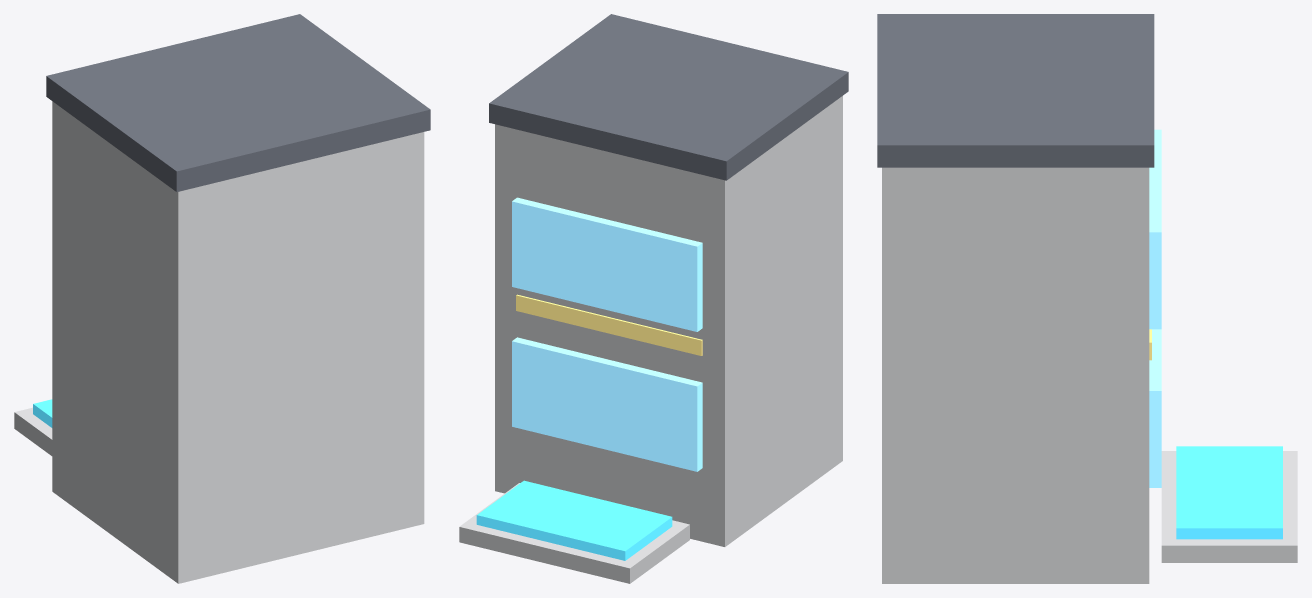
File: res_luxury_2.glb
The picture shows the model from 3 angles, left to right: view 1: azimuth 30°, elevation 25°; view 2: azimuth 150°, elevation 25°; view 3: azimuth 270°, elevation 25°; orthographic projection. The views are drawn at different scales.
Parts seen in each view (by area): view 1: res_luxury_2; view 2: res_luxury_2; view 3: res_luxury_2.
Part boxes in pixels (<box>): res_luxury_2: <box>14,14,430,583</box>; res_luxury_2: <box>459,14,848,583</box>; res_luxury_2: <box>877,14,1297,583</box>.
Size of the model in its own units: 0.64 by 1 by 0.865.
